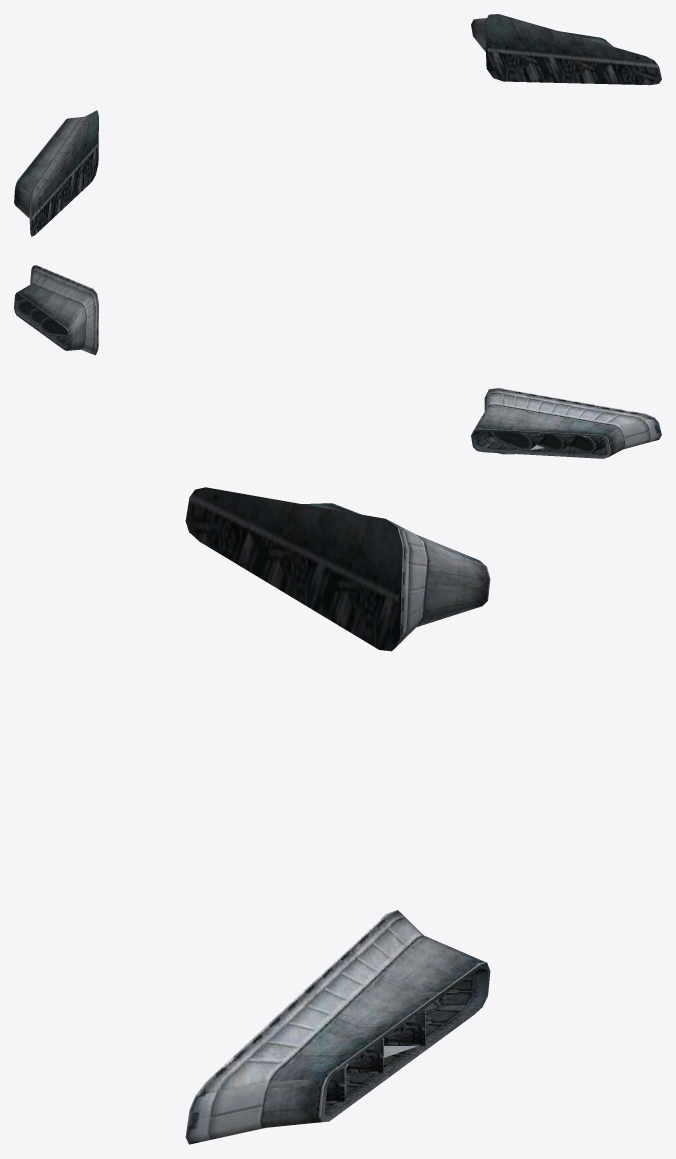
File: vt49_booster_s02_l1.fbx
The picture shows the model from 3 angles, top to bottom: view 1: azimuth 30°, elevation 25°; view 2: azimuth 150°, elevation 25°; view 3: azimuth 270°, elevation 25°; orthographic projection. The views are drawn at different scales.
Parts seen in each view (by area): view 1: mesh_node; view 2: mesh_node; view 3: mesh_node.
Part boxes in pixels (x1,y1,x2,y2): mesh_node: (14,14,661,236); mesh_node: (14,265,661,458); mesh_node: (185,487,490,1144).
Size of the model in its own units: 33.67 by 3.42 by 7.04.
